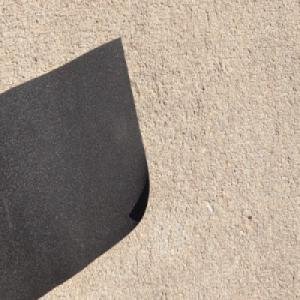PaintChip: (0, 38, 150, 296)
